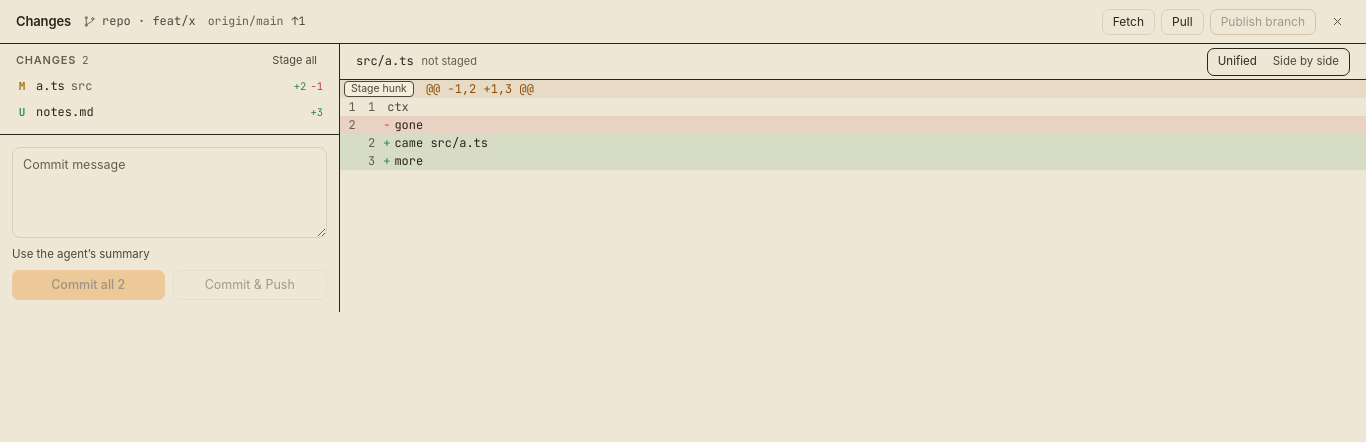
Test: ChangesView › shows a hook refusal with what the hook said
The width and height of the screenshot is (1366, 442).
Check: the text "came src/a.ts" is shown, box 394,134 -> 504,152
Type "try" into the text box labelled "Commit message". click: (170, 192)
box: 12,147 -> 327,238
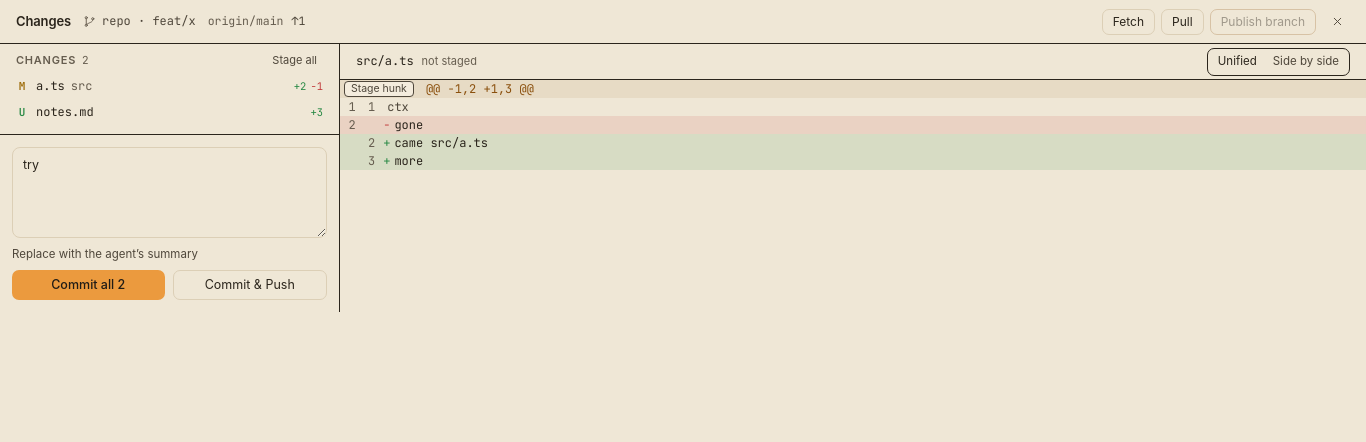
Press Enter in the text box named "Commit message", box 12,147 -> 327,238
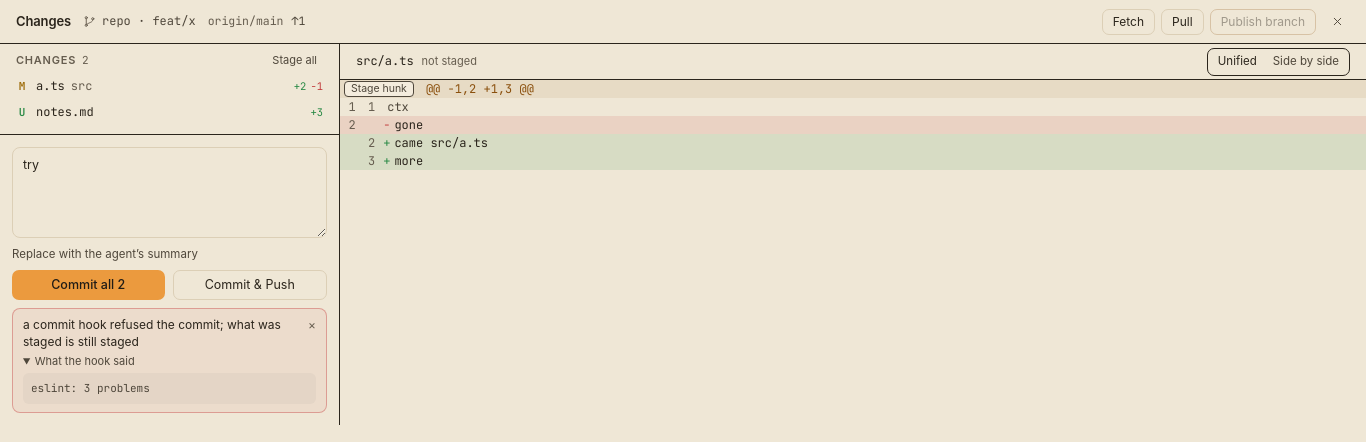
Check: the text "a commit hook refused" is shown, box 23,317 -> 281,349
Check: the heading "What the hook said" is shown, box 35,354 -> 135,368
Check: the text "eslint: 3 problems" is shown, box 23,373 -> 316,404
